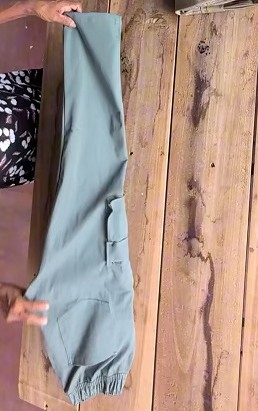TROUSER: (3, 22, 258, 399)
